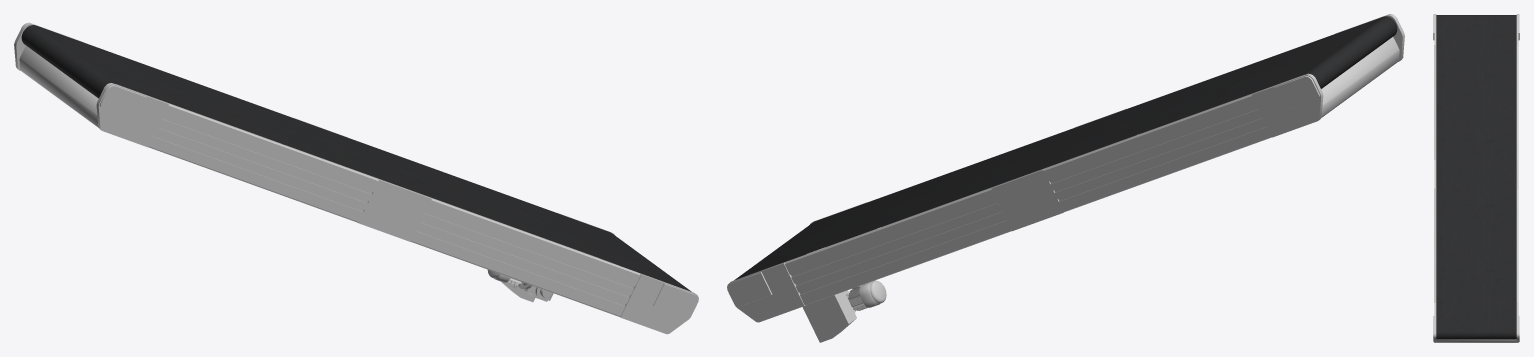
Rendered from BeltConveyor45°.FBX.
The picture shows the model from 3 angles, left to right: view 1: azimuth 30°, elevation 25°; view 2: azimuth 150°, elevation 25°; view 3: azimuth 270°, elevation 25°; orthographic projection. The views are drawn at different scales.
Visible parts, largest first — view 1: BeltConveyor45°, BeltConveyor_Belt; view 2: BeltConveyor45°, BeltConveyor_Belt; view 3: BeltConveyor_Belt, BeltConveyor45°.
Boxes of the visible parts, box(x1,y1,x2,y2) form: BeltConveyor45°: box(14, 22, 698, 334); BeltConveyor_Belt: box(21, 25, 691, 291); BeltConveyor45°: box(727, 14, 1404, 342); BeltConveyor_Belt: box(734, 16, 1397, 280); BeltConveyor_Belt: box(1436, 15, 1516, 339); BeltConveyor45°: box(1433, 14, 1519, 342).
Size of the model in its own units: 3.5 by 2.19 by 0.8703.
